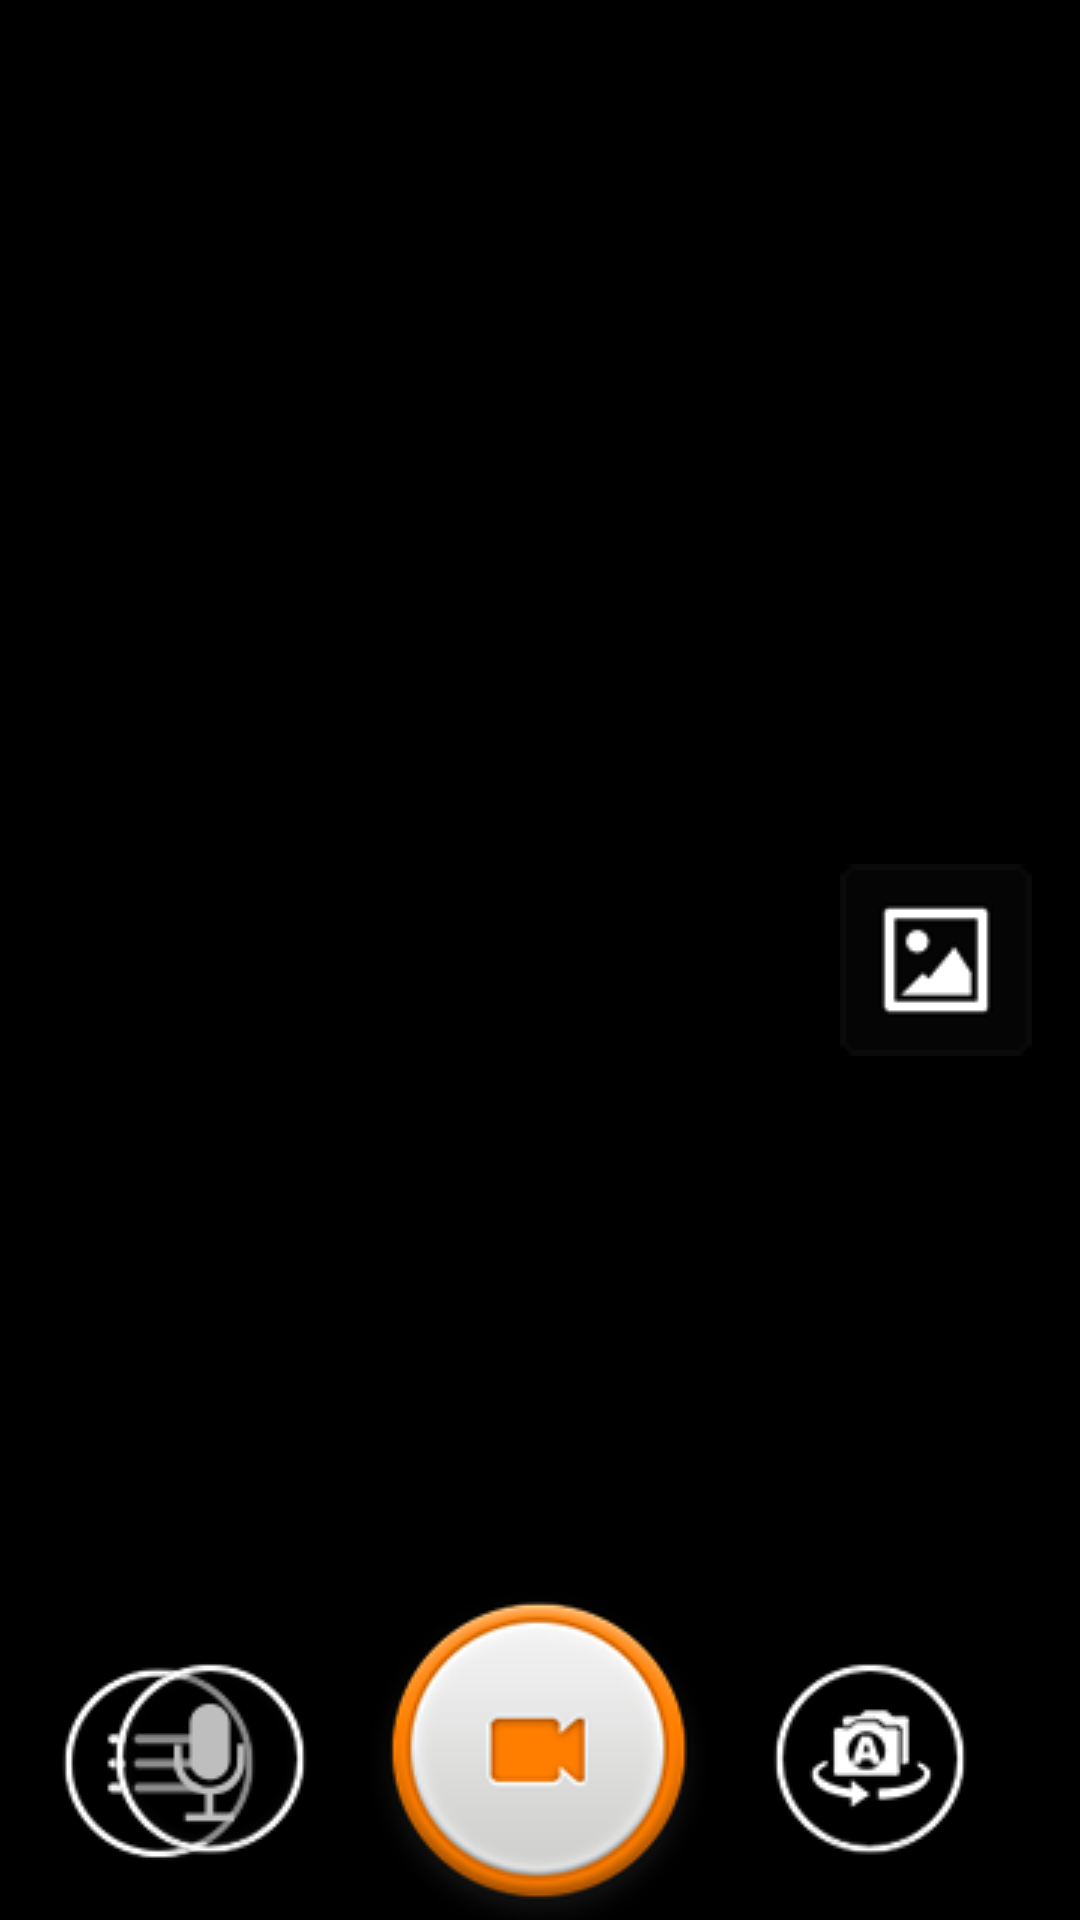

Screen size 1080 × 1920. Icon name, then its center in pixels as point (x, y):
camera switch ab: point (870, 1759)
gallery: point (936, 960)
shutter recording: point (539, 1750)
